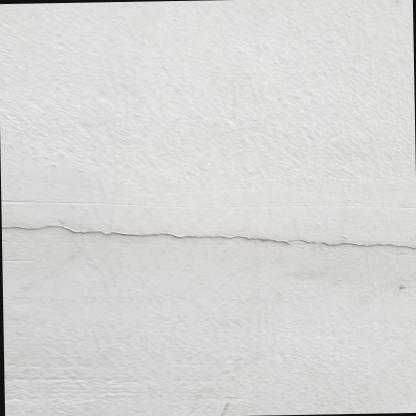crack: (0, 225, 416, 248)
